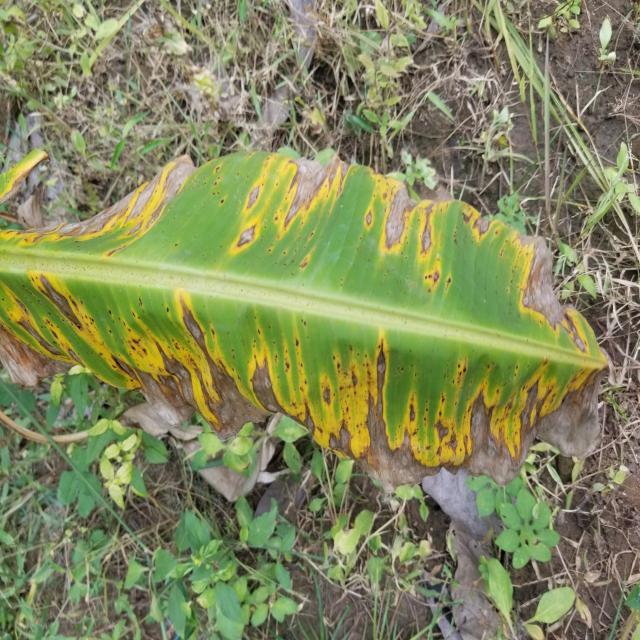Early_rust: (0, 91, 614, 491)
